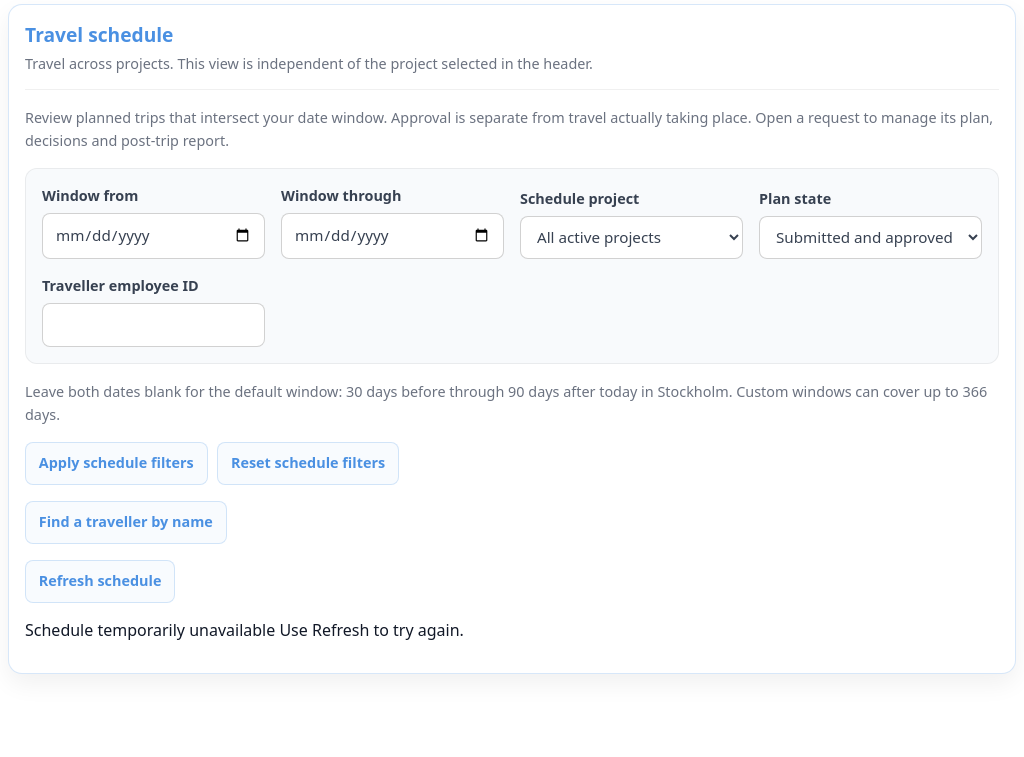
Scenario: errors are not rendered as empty results and refresh recovers
Expected: the message shows "Schedule temporarily unavailable", [25,619,275,641]
Expected: the text "No matching planned travel in this window" is not shown
Click the button "Refresh schedule".
click(100, 581)  # box [25,560,175,603]
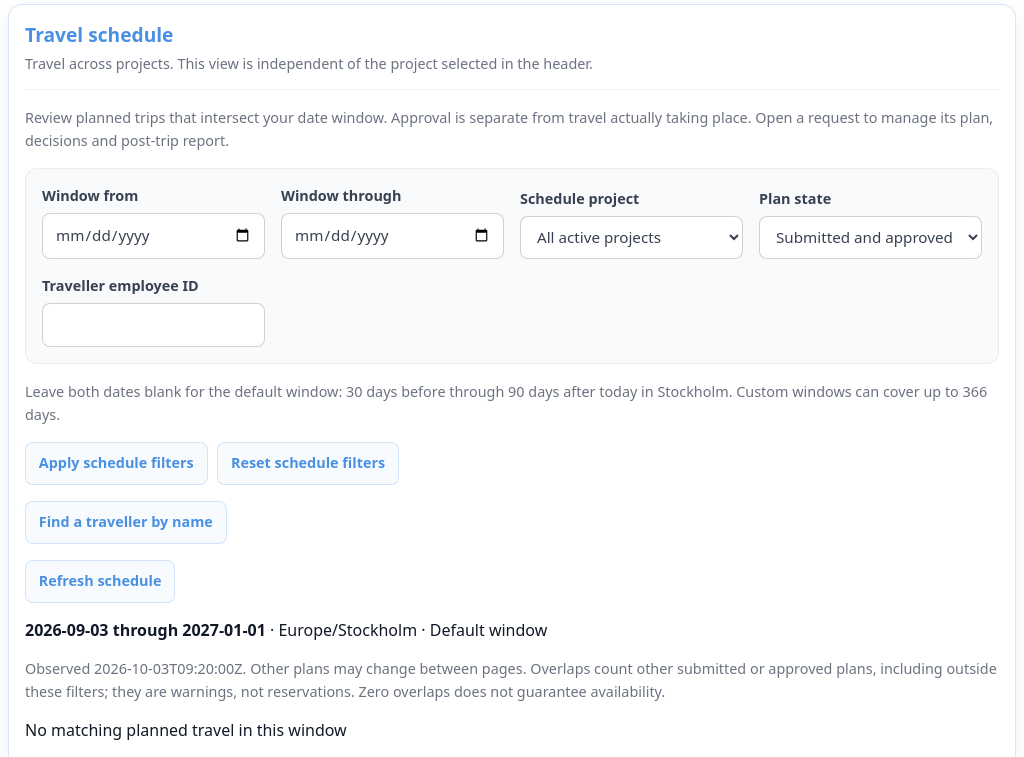
Expected: the text "No matching planned travel in this window" is shown, [25,719,347,741]
